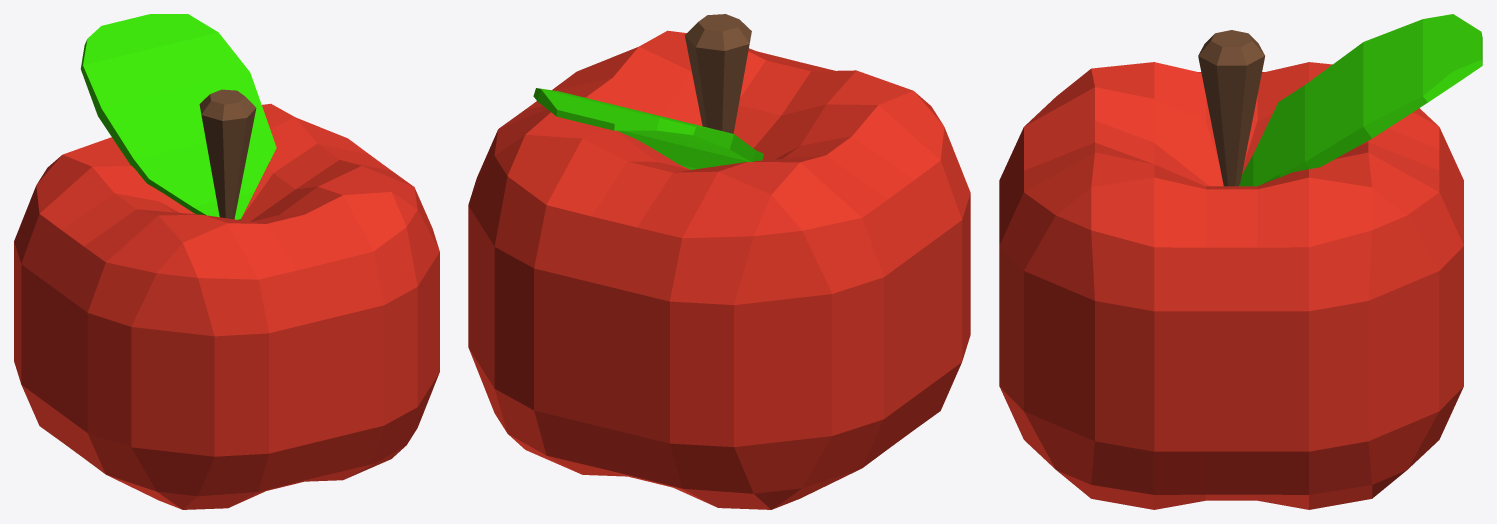
The model's file is apple.glb.
The picture shows the model from 3 angles, left to right: view 1: azimuth 30°, elevation 25°; view 2: azimuth 150°, elevation 25°; view 3: azimuth 270°, elevation 25°; orthographic projection. The views are drawn at different scales.
Visible parts, largest first — view 1: Cube; view 2: Cube; view 3: Cube.
Boxes of the visible parts, bbox=[...] form: Cube: bbox=[14, 14, 439, 509]; Cube: bbox=[468, 14, 970, 509]; Cube: bbox=[999, 14, 1482, 509].
Bounding box in the file's own units: 1.78 × 1.74 × 1.85.
